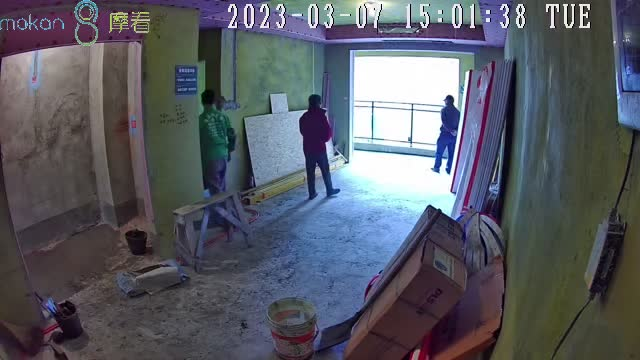people: (298, 93, 342, 199), (198, 90, 232, 198), (430, 96, 459, 176)
window: (354, 52, 460, 157)
